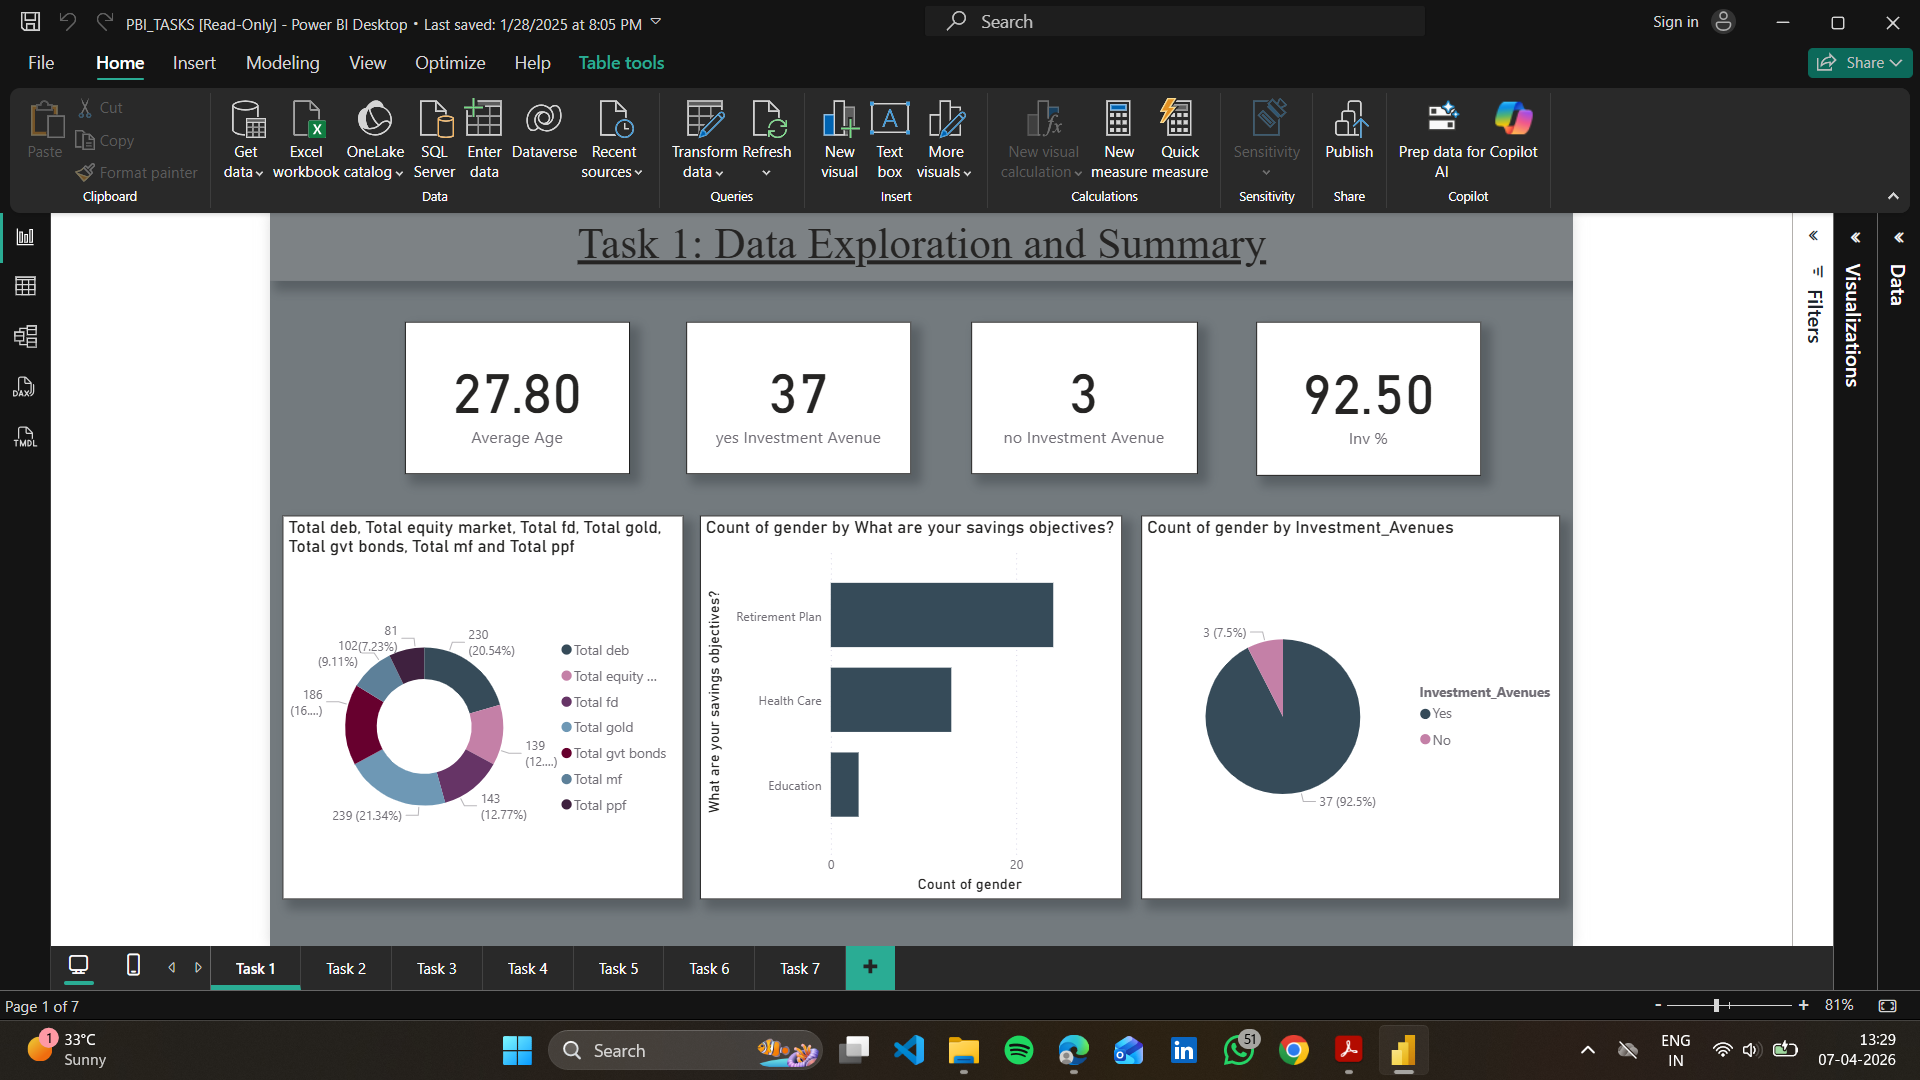

What the dashboard file says about the page in this screenshot:
{"tool":"powerbi","page":{"name":"Task 1","canvas":[1280,720],"ordinal":0},"visuals":[{"type":"textbox","box":[0,0,1279.8,66.3],"z":0},{"type":"card","fields":{"Values":["Data_set 2.Average Age"]},"box":[132.5,106.7,220.9,149.7],"z":1000},{"type":"card","fields":{"Values":["Data_set 2.yes Investment Avenue"]},"box":[408.6,106.7,220.9,149.7],"z":2000},{"type":"card","fields":{"Values":["Data_set 2.no Investment Avenue"]},"box":[688.3,106.7,222.1,149.7],"z":3000},{"type":"card","fields":{"Values":["Data_set 2.Inv %"]},"box":[968.1,106.7,220.9,150.9],"z":4000},{"type":"donutChart","fields":{"Y":["Data_set 2.Total deb","Data_set 2.Total equity market","Data_set 2.Total fd","Data_set 2.Total gold","Data_set 2.Total gvt bonds","Data_set 2.Total mf","Data_set 2.Total ppf"]},"box":[12.3,296.9,393.9,376.7],"z":5000},{"type":"barChart","fields":{"Category":["Data_set 2.What are your savings objectives?"],"Y":["CountNonNull(Data_set 2.gender)"]},"box":[422.1,296.9,414.7,376.7],"z":6000},{"type":"pieChart","fields":{"Category":["Data_set 2.Investment_Avenues"],"Y":["CountNonNull(Data_set 2.gender)"]},"box":[855.2,296.9,411,376.7],"z":7000}]}

Visuals, with their boxes on the page's 1280x720 design canvas (x1, y1, x2, y2). These are canvas units, not pixel positions in the 1920x1080 screenshot, which may show the page scaled, cropped or inside an application window:
textbox: {"left": 0, "top": 0, "right": 1280, "bottom": 66}
card - Data_set 2.Average Age: {"left": 132, "top": 107, "right": 353, "bottom": 256}
card - Data_set 2.yes Investment Avenue: {"left": 409, "top": 107, "right": 630, "bottom": 256}
card - Data_set 2.no Investment Avenue: {"left": 688, "top": 107, "right": 910, "bottom": 256}
card - Data_set 2.Inv %: {"left": 968, "top": 107, "right": 1189, "bottom": 258}
donutChart - Data_set 2.Total deb x Data_set 2.Total equity market: {"left": 12, "top": 297, "right": 406, "bottom": 674}
barChart - Data_set 2.What are your savings objectives? x CountNonNull(Data_set 2.gender): {"left": 422, "top": 297, "right": 837, "bottom": 674}
pieChart - Data_set 2.Investment_Avenues x CountNonNull(Data_set 2.gender): {"left": 855, "top": 297, "right": 1266, "bottom": 674}
